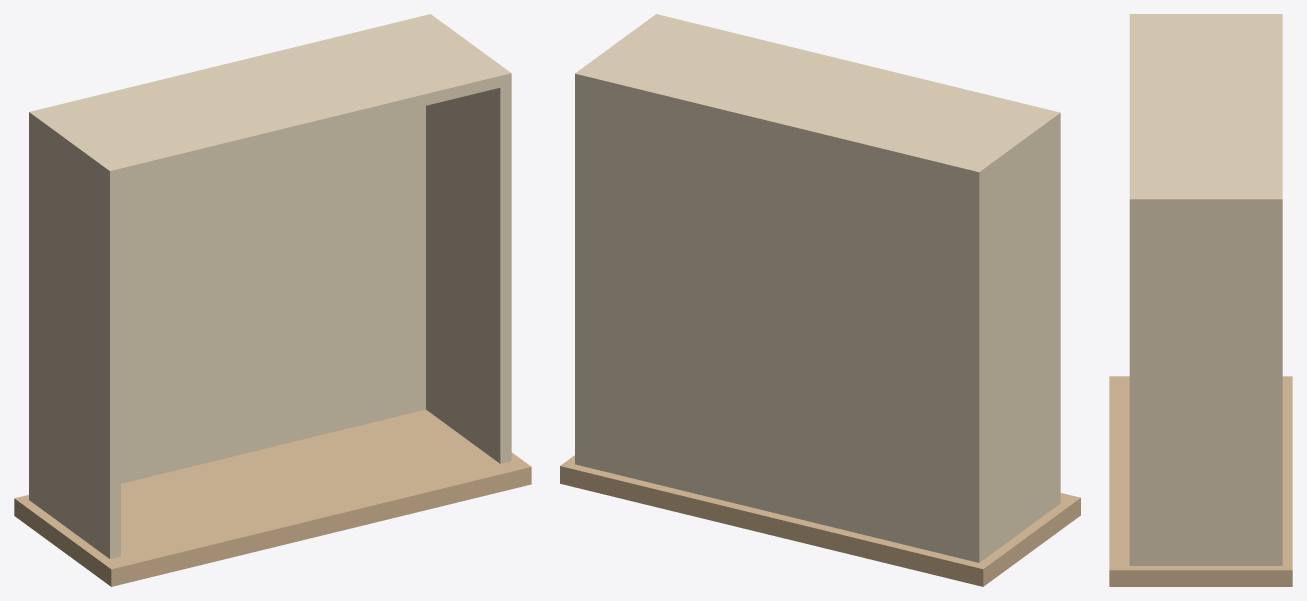
Rendered from top_drawer.glb.
3 views of the same model, side by side, from view 1: azimuth 30°, elevation 25°; view 2: azimuth 150°, elevation 25°; view 3: azimuth 270°, elevation 25° (orthographic). The views are drawn at different scales.
Visible parts, largest first — view 1: top_drawer.001; view 2: top_drawer.001; view 3: top_drawer.001.
Part boxes in pixels (left/top/right/bottom): top_drawer.001: left=14, top=14, right=531, bottom=586; top_drawer.001: left=560, top=14, right=1080, bottom=586; top_drawer.001: left=1109, top=14, right=1292, bottom=586.
Size of the model in its own units: 0.45 by 0.43 by 0.18.
